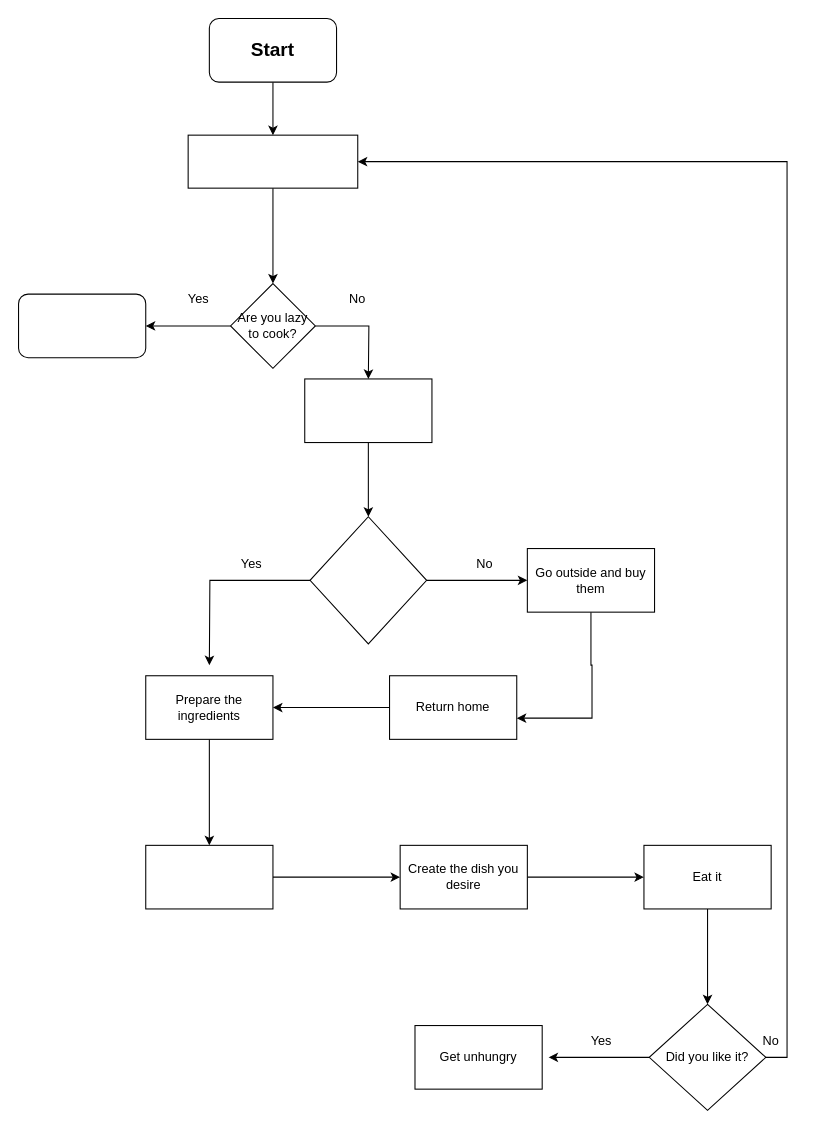
The diagram is 821 pixels wide and 1129 high, and some of its shapes have lost their labels. The shapes that lost their labels are listed below. From the top down, each one's centre as x and y in pixels, then its label:
(272,161): Get hungry
(81,325): Order takeout (and lose lots of money)
(368,410): Get a recipe
(368,580): Do you have all ingredients at home?
(209,876): Heat up pan or pot
